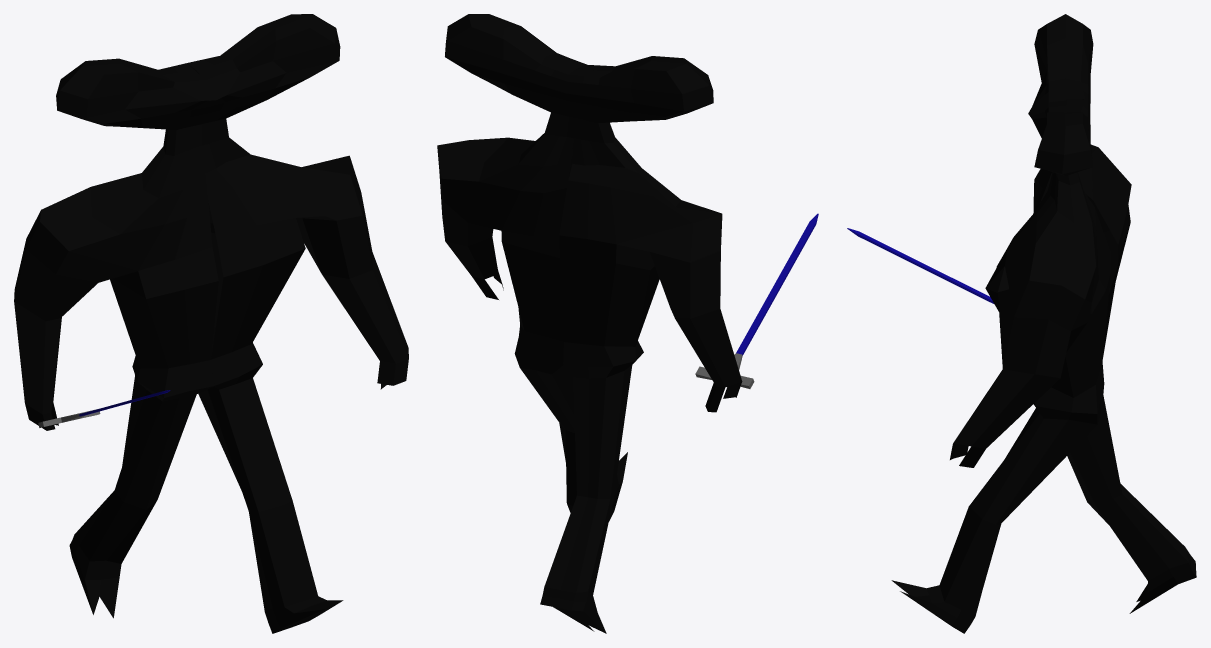
Rendered from Swordsmanw1.obj.
3 views of the same model, side by side, from view 1: azimuth 30°, elevation 25°; view 2: azimuth 150°, elevation 25°; view 3: azimuth 270°, elevation 25° (orthographic). The views are drawn at different scales.
Visible parts, largest first — view 1: Cube, Cube.001_Sword; view 2: Cube, Cube.001_Sword; view 3: Cube, Cube.001_Sword.
Part boxes in pixels (box(x1,y1,x2,y2)): Cube: box(14, 14, 408, 633); Cube.001_Sword: box(38, 390, 170, 427); Cube: box(437, 14, 742, 633); Cube.001_Sword: box(695, 213, 818, 388); Cube: box(891, 14, 1196, 633); Cube.001_Sword: box(847, 228, 993, 303).
Bounding box in the file's own units: 0.9395 × 1.58 × 0.8793.
